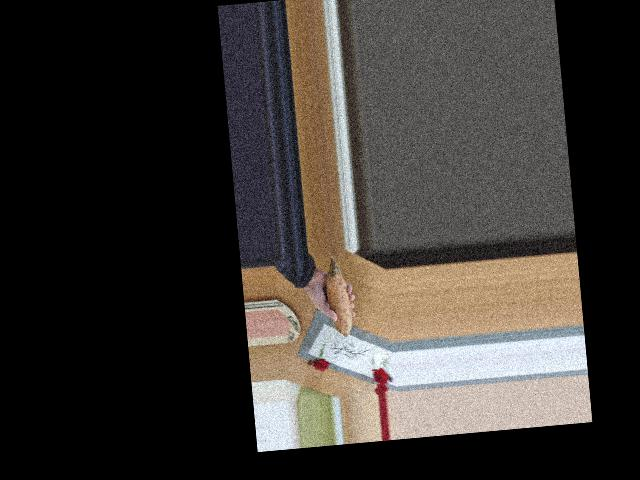sweet_potato: (316, 261, 357, 340)
